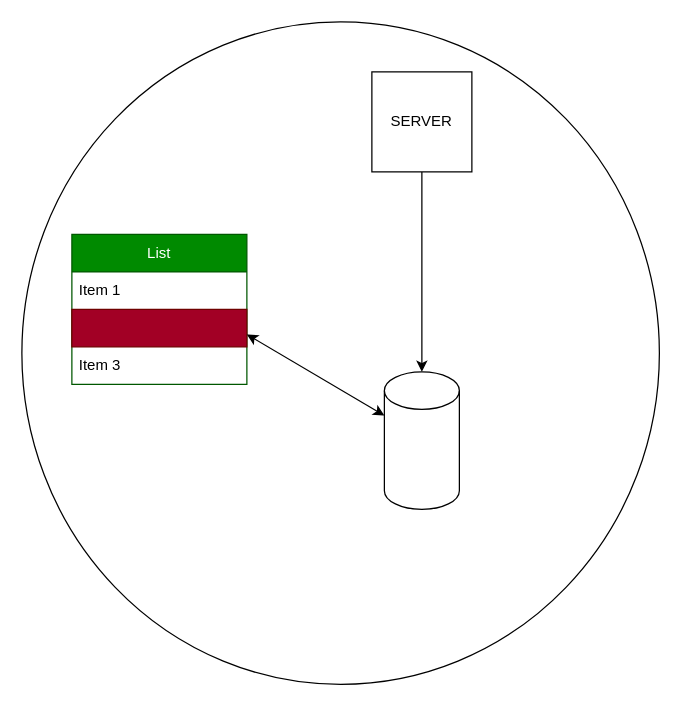
This 681x706 diagram has some shape labels left out. The centre of each missing label's shape, as x and y in pixels:
"DATABSR" goes at point 421,440.
"Item 2" goes at point 159,327.
